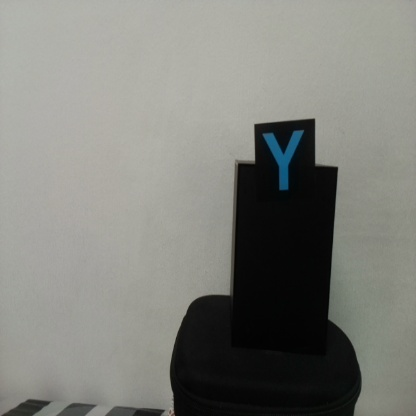id_14: (254, 123, 317, 204)
